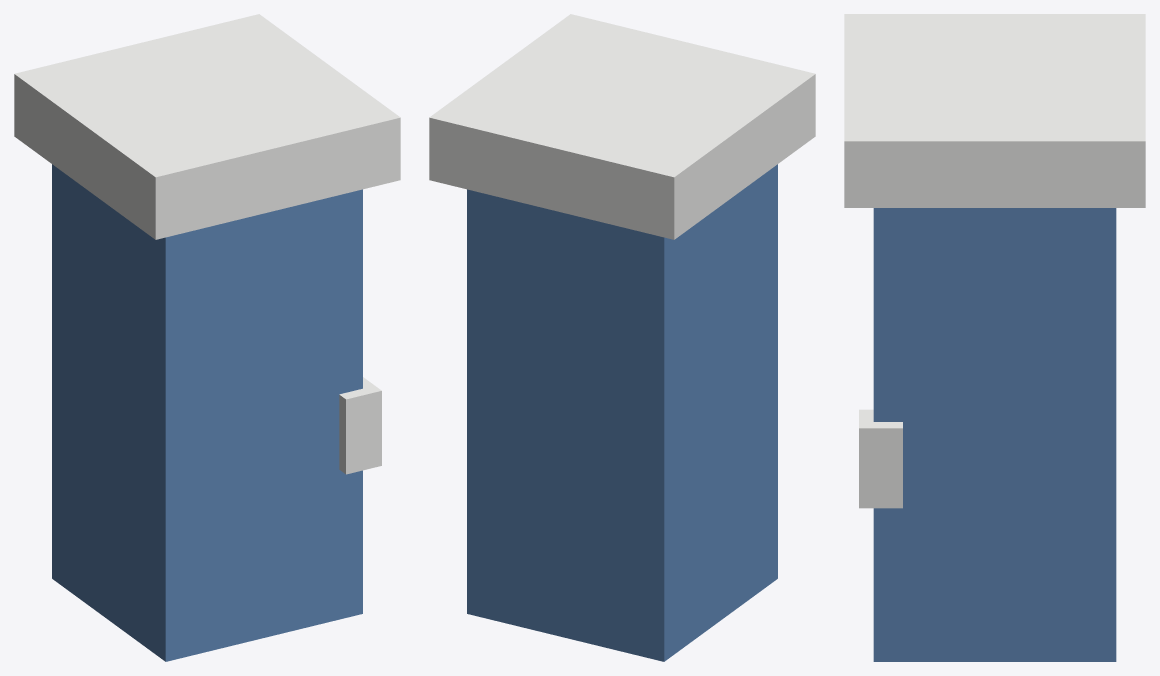
The model's file is parapet_corner.glb.
The picture shows the model from 3 angles, left to right: view 1: azimuth 30°, elevation 25°; view 2: azimuth 150°, elevation 25°; view 3: azimuth 270°, elevation 25°; orthographic projection. The views are drawn at different scales.
Visible parts, largest first — view 1: parapet_corner_band, parapet_corner_trim; view 2: parapet_corner_band, parapet_corner_trim; view 3: parapet_corner_band, parapet_corner_trim.
Part boxes in pixels (x1=…): parapet_corner_band: x1=52, y1=164, x2=362, y2=661; parapet_corner_trim: x1=14, y1=14, x2=400, y2=474; parapet_corner_band: x1=467, y1=164, x2=777, y2=661; parapet_corner_trim: x1=429, y1=14, x2=815, y2=239; parapet_corner_band: x1=873, y1=208, x2=1116, y2=661; parapet_corner_trim: x1=844, y1=14, x2=1145, y2=508.
Bounding box in the file's own units: 0.41 × 0.8 × 0.41.
